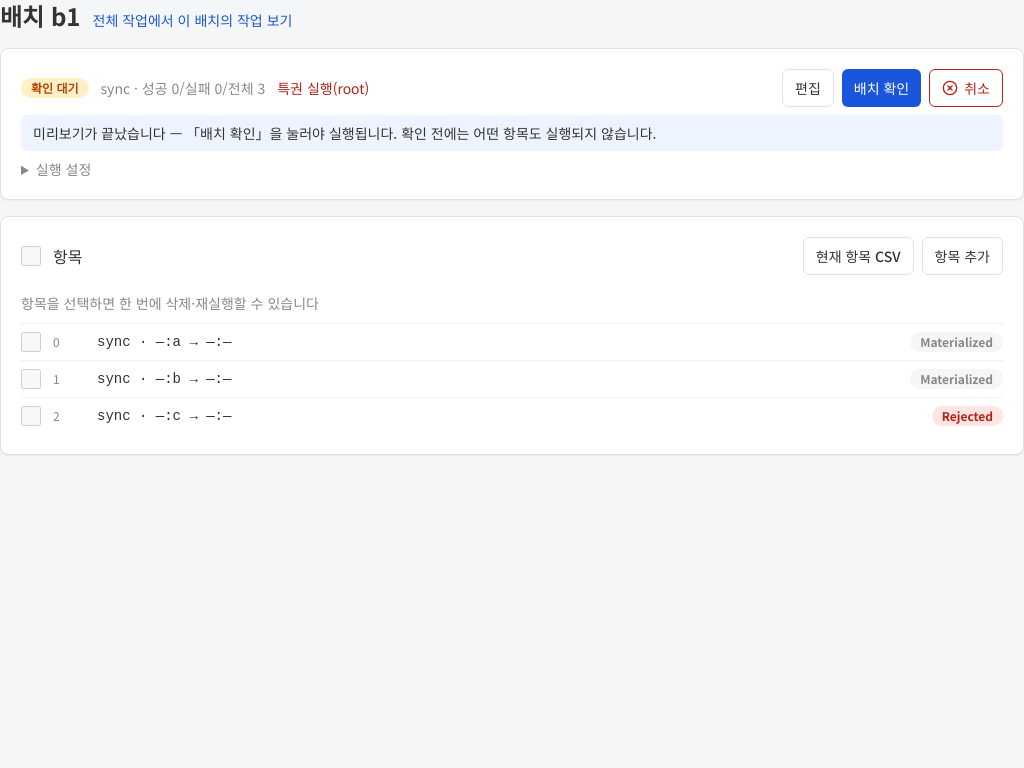
Test: 배치 확인 대화상자: 실행할 항목 수·복사 대상 합계·동시 실행 상한·delete 경고·소유권·가장 이른 만료를 보인다
The width and height of the screenshot is (1024, 768).
Step 1. Click the button "배치 확인" → (882, 88), box [842,69,921,107]
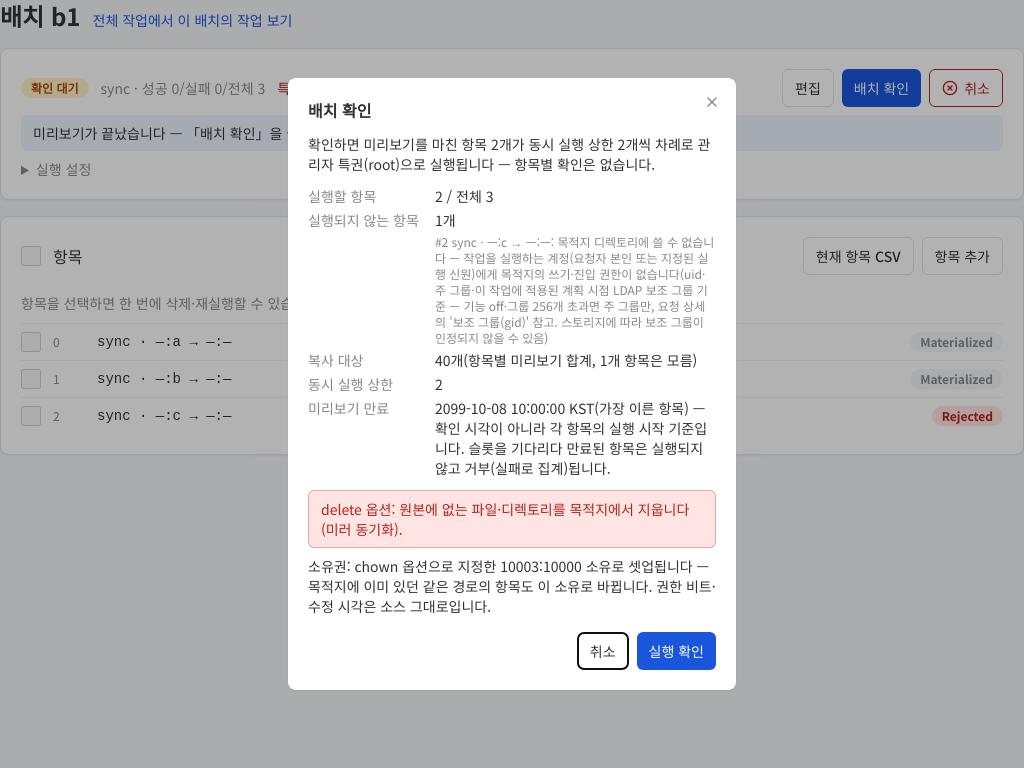
Now the text "2 / 전체 3" is shown, box [435,186,494,206]
Now the number of list items is 1, box [435,234,716,346]
Now the list item shows "#2 sync · —:c → —:—:", box [435,233,714,346]
